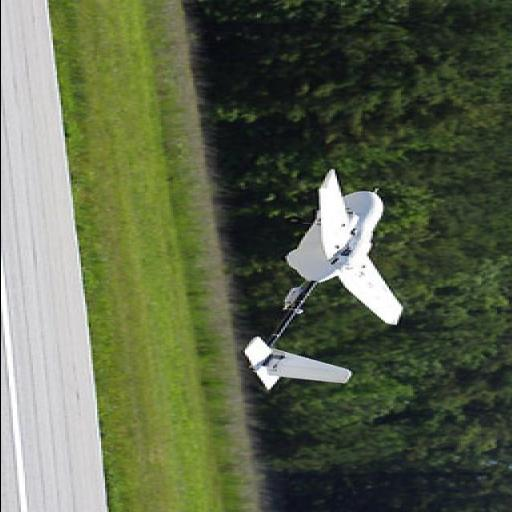uav: (230, 170, 404, 397)
